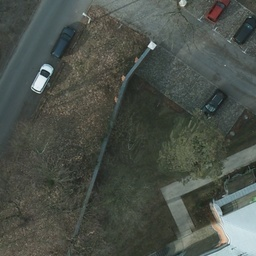car: (50, 22, 75, 59), (232, 15, 255, 46), (32, 63, 52, 95), (202, 90, 222, 120), (208, 1, 226, 20)
